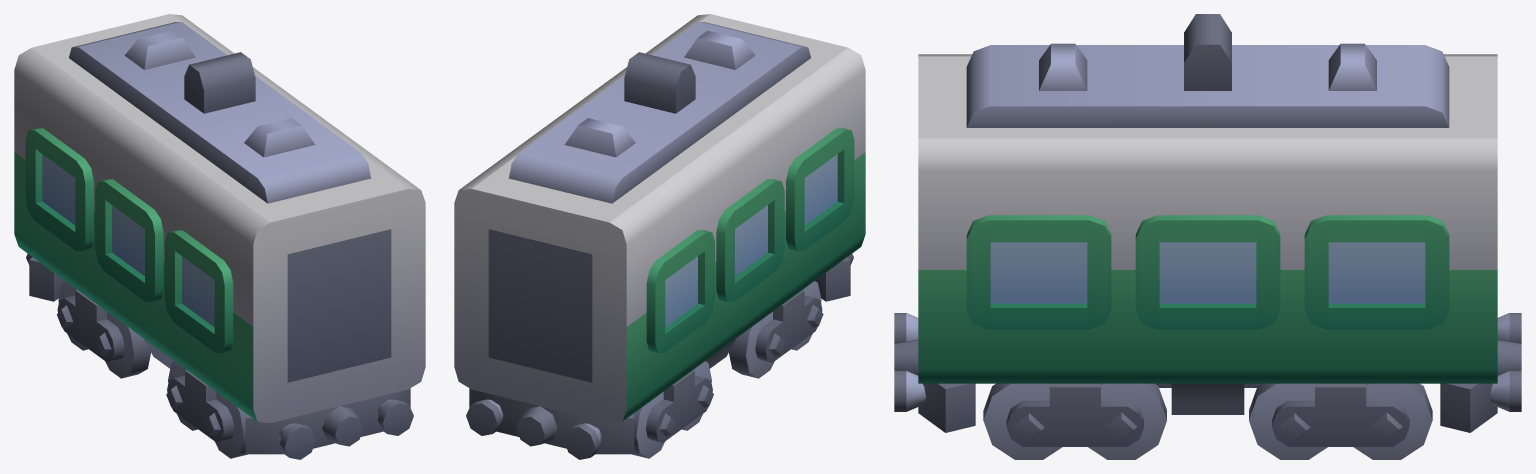
The model's file is train-electric-square-c.glb.
3 views of the same model, side by side, from view 1: azimuth 30°, elevation 25°; view 2: azimuth 150°, elevation 25°; view 3: azimuth 270°, elevation 25° (orthographic). The views are drawn at different scales.
Visible parts, largest first — view 1: train-electric-square-c, wheels-back, wheels-front; view 2: train-electric-square-c, wheels-front, wheels-back; view 3: train-electric-square-c, wheels-front, wheels-back.
Part boxes in pixels (box(x1,y1,x2,y2)): train-electric-square-c: box(14, 14, 425, 459); wheels-back: box(57, 281, 150, 378); wheels-front: box(166, 361, 247, 458); train-electric-square-c: box(454, 14, 865, 459); wheels-front: box(729, 281, 823, 378); wheels-back: box(632, 361, 713, 458); train-electric-square-c: box(894, 14, 1521, 432); wheels-front: box(983, 383, 1166, 459); wheels-back: box(1249, 383, 1432, 459).
Size of the model in its own units: 1.1 by 1.78 by 2.6.
